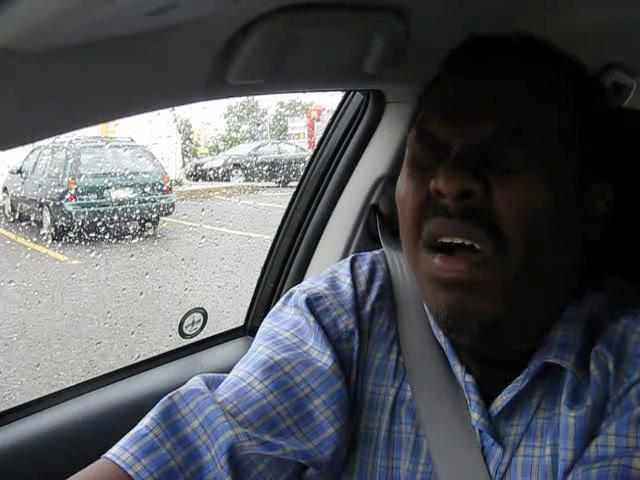close_eyeL: (398, 134, 459, 179)
close_eyeR: (464, 137, 545, 188)
yawn: (403, 214, 505, 282)
